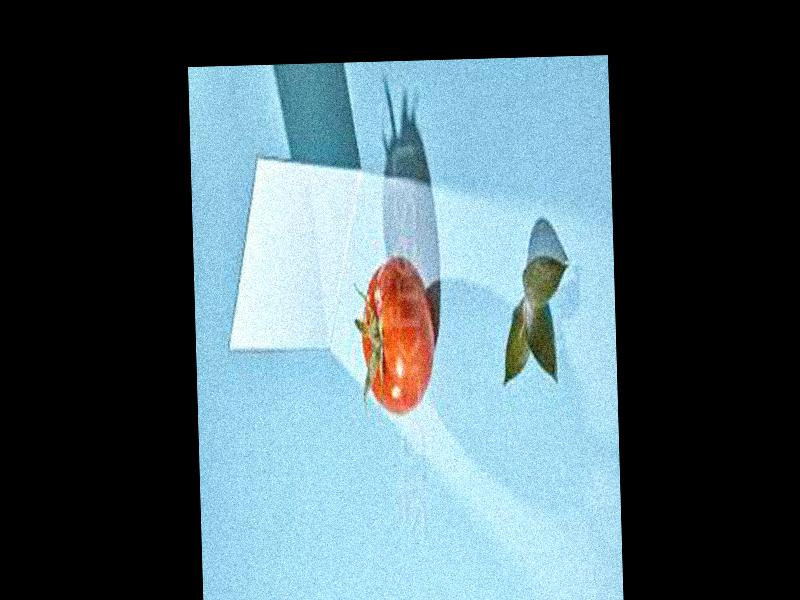Tomato: (358, 255, 436, 419)
